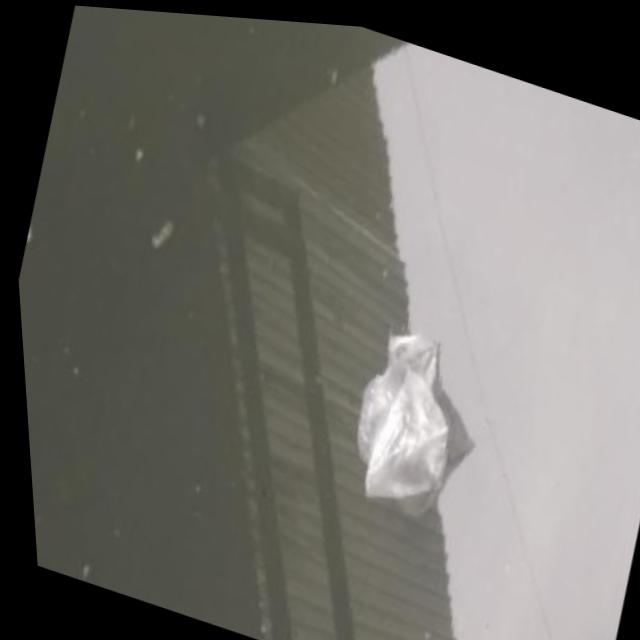plastic: (332, 312, 486, 525)
